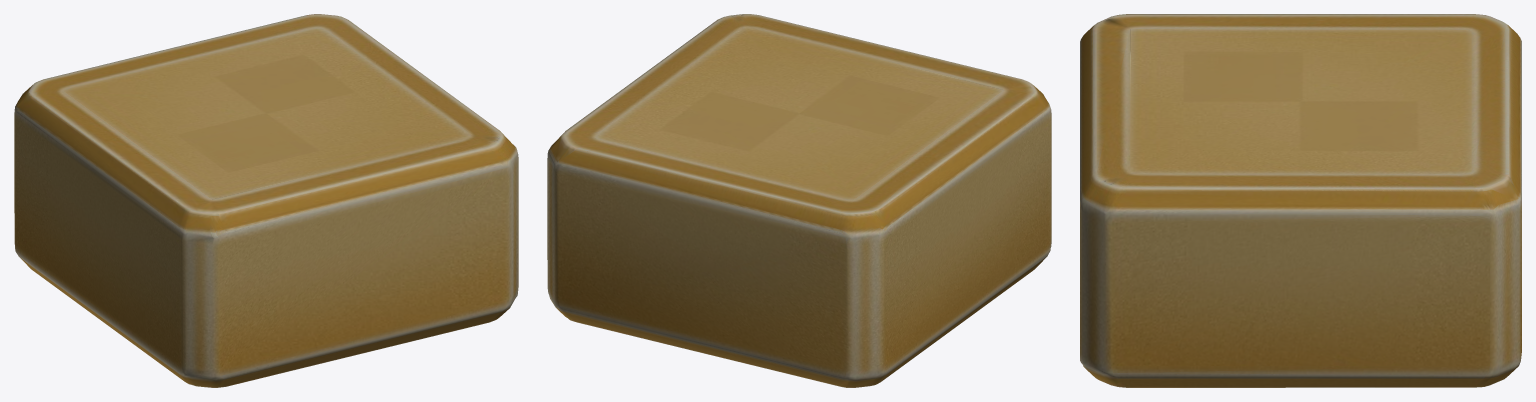
The model's file is tripo_convert_8bd69c96-0797-46cf-af1f-4c0fcbb64c5f.fbx.
The picture shows the model from 3 angles, left to right: view 1: azimuth 30°, elevation 25°; view 2: azimuth 150°, elevation 25°; view 3: azimuth 270°, elevation 25°; orthographic projection. The views are drawn at different scales.
Parts seen in each view (by area): view 1: tripo_node_8bd69c96; view 2: tripo_node_8bd69c96; view 3: tripo_node_8bd69c96.
Boxes of the visible parts, left/top/right/bottom form: tripo_node_8bd69c96: left=14, top=14, right=518, bottom=387; tripo_node_8bd69c96: left=547, top=14, right=1051, bottom=387; tripo_node_8bd69c96: left=1080, top=14, right=1521, bottom=387.
Size of the model in its own units: 0.998 by 0.498 by 0.998.
Materials: 1 (1 with a texture image).
